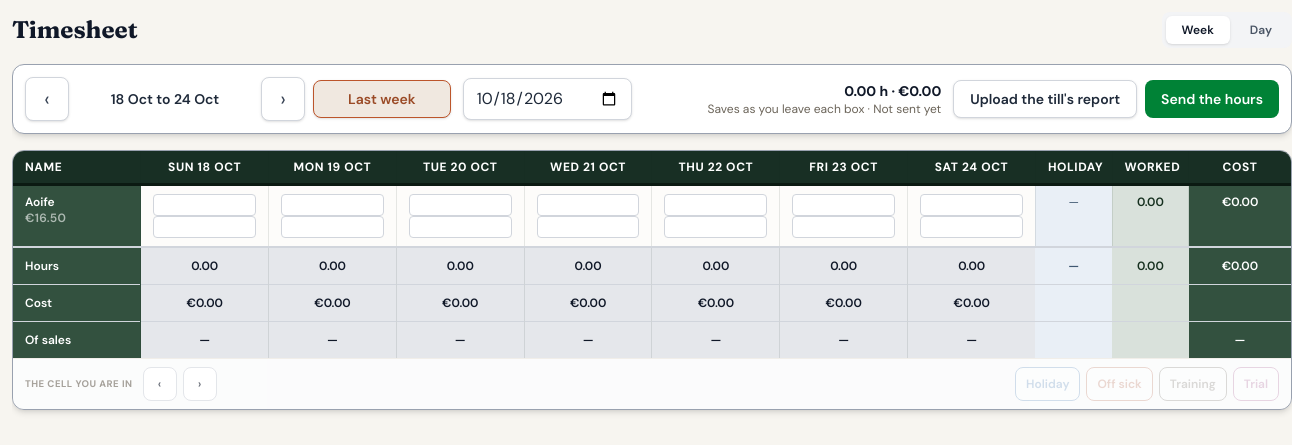
Scenario: the button that takes you home › says you are on last week, and offers to bring you back to it
This screenshot has width=1292, height=445.
Expected: the button "Last week" is shown, top-left (313, 80), bottom-right (451, 118)
Click the button named "Next week".
click(283, 99)  # box top-left (261, 77), bottom-right (305, 121)
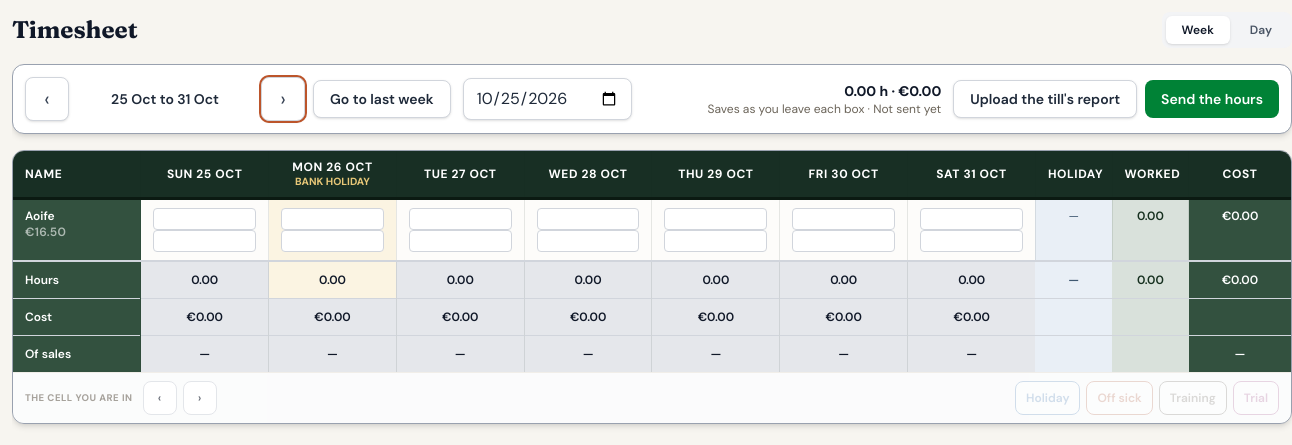
Now the button "Go to last week" is shown, box top-left (313, 80), bottom-right (451, 118)
